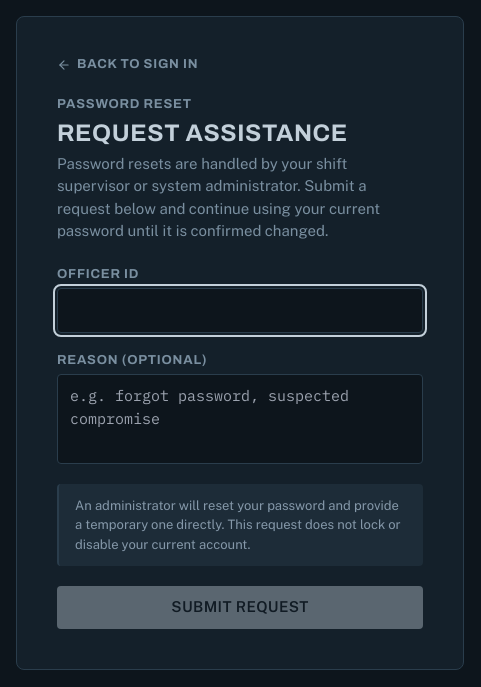
ForgotPasswordScreen › the submit button is disabled until an officer ID is entered
The image size is (481, 687).
Expected: the button "Submit request" is disabled, [57,586,423,629]
Type "OFF-2291" into the field labelled "Officer ID". click: [240, 310]
box: [57,288,423,333]
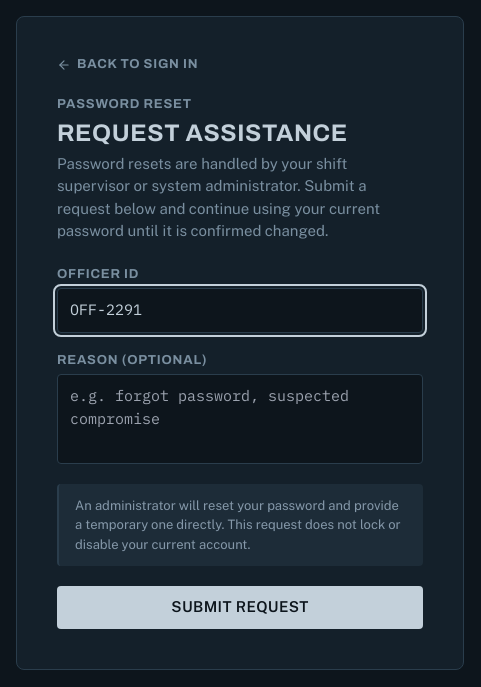
Expected: the button "Submit request" is enabled, [57,586,423,629]
